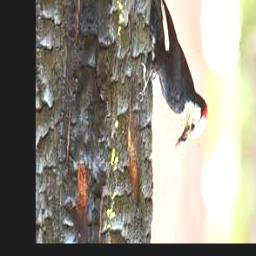Woodpecker: (139, 0, 206, 153)
